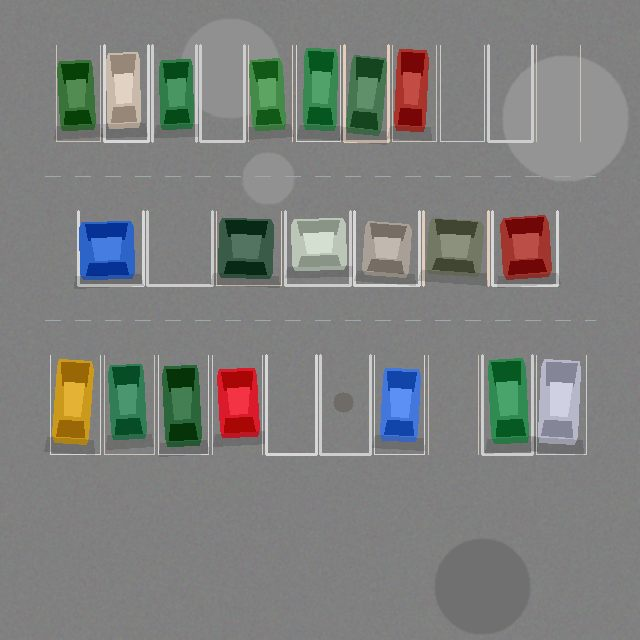space-empty: (266, 355, 316, 454), (320, 355, 370, 454), (428, 355, 478, 454), (147, 211, 212, 285), (200, 45, 244, 141), (440, 45, 484, 141), (488, 45, 532, 141), (536, 45, 580, 141)
space-occupied: (50, 355, 100, 454), (104, 355, 154, 454), (158, 355, 208, 454), (212, 355, 262, 454), (374, 355, 424, 454), (482, 355, 532, 454), (536, 355, 586, 454), (78, 211, 143, 285), (216, 211, 281, 285), (285, 211, 350, 285), (354, 211, 419, 285), (423, 211, 488, 285), (492, 211, 557, 285), (56, 45, 100, 141), (104, 45, 148, 141), (152, 45, 196, 141), (248, 45, 292, 141), (296, 45, 340, 141), (344, 45, 388, 141), (392, 45, 436, 141)
